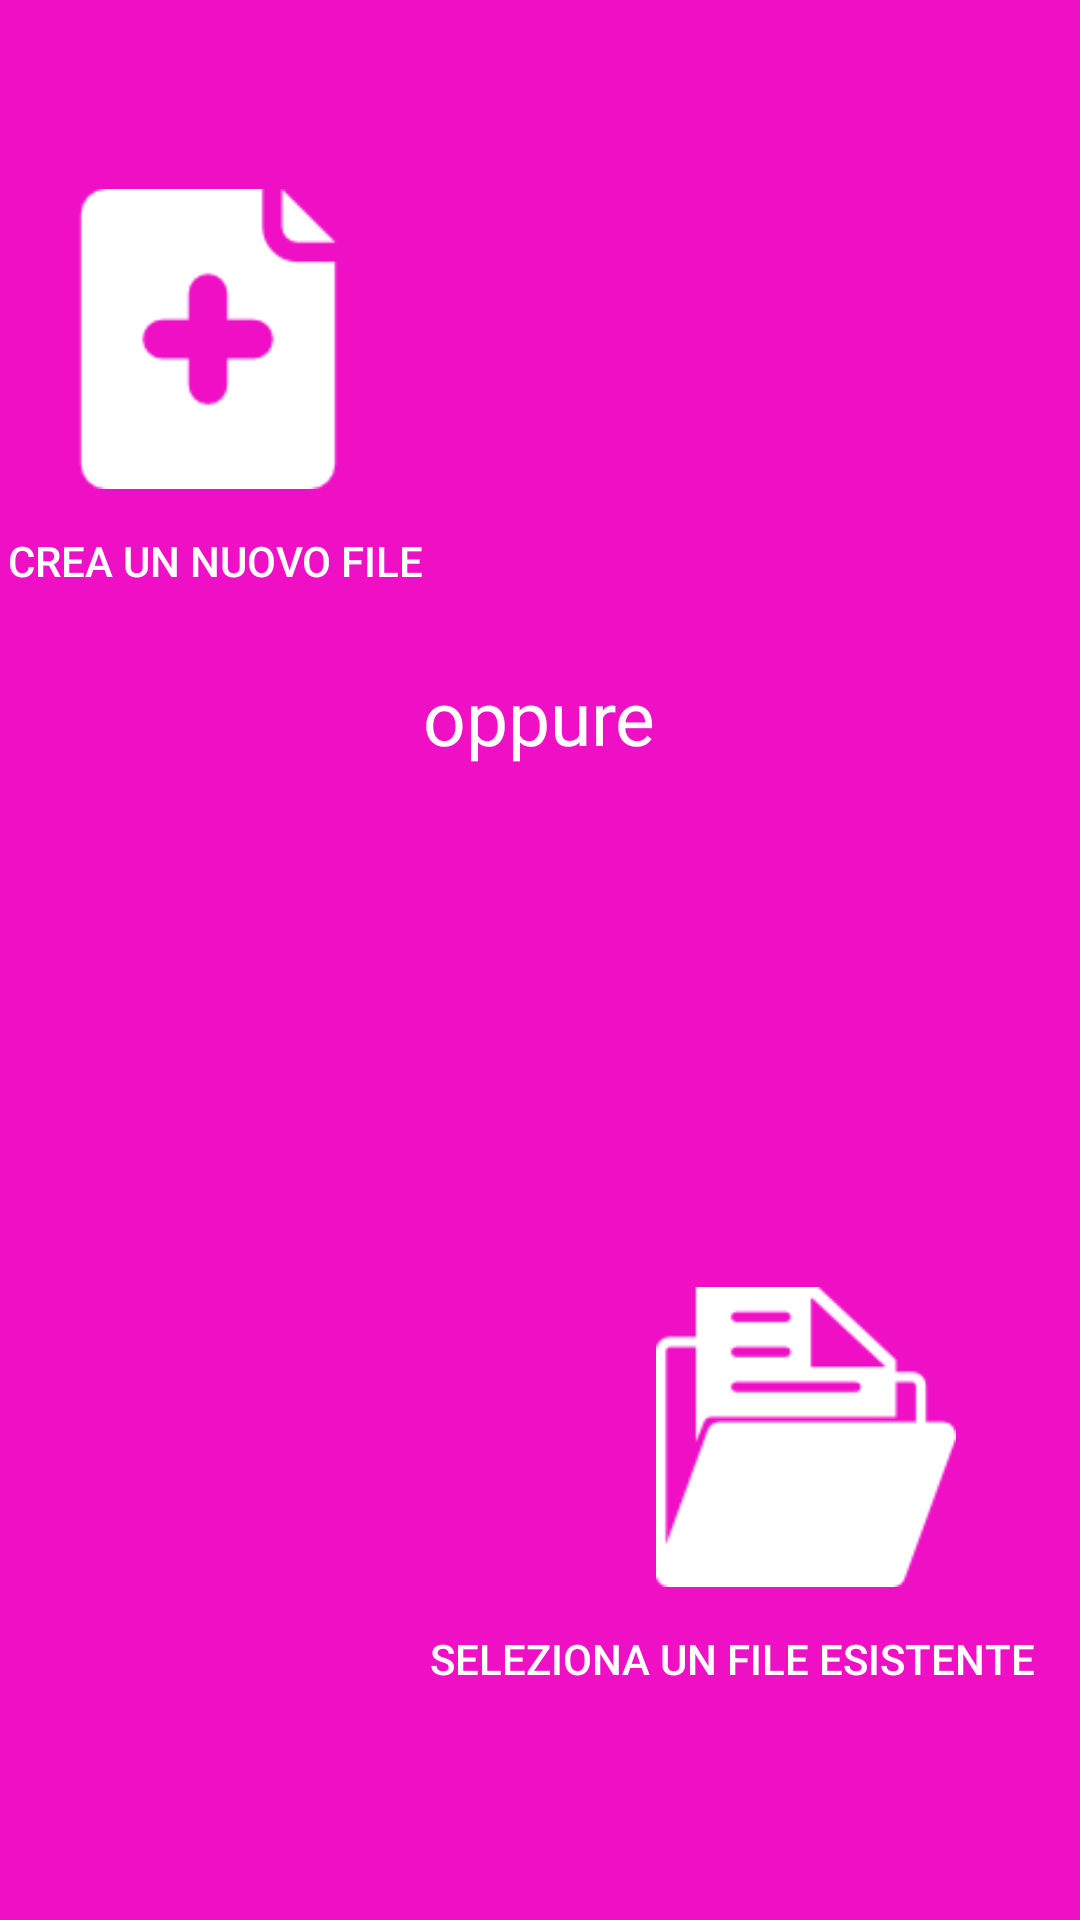

Locate icon controls on the screen. Image size 1080*1920, boxes as bbox=(x1, y1, x2, y2).
archivio: bbox=(656, 1287, 956, 1587)
